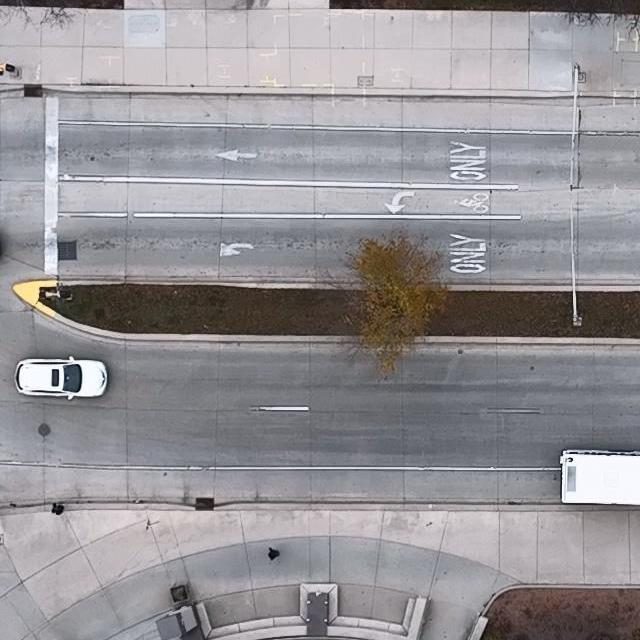car: (560, 450, 640, 505), (13, 355, 108, 401)
